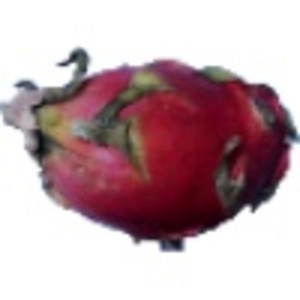pitaia: (1, 47, 300, 254)
